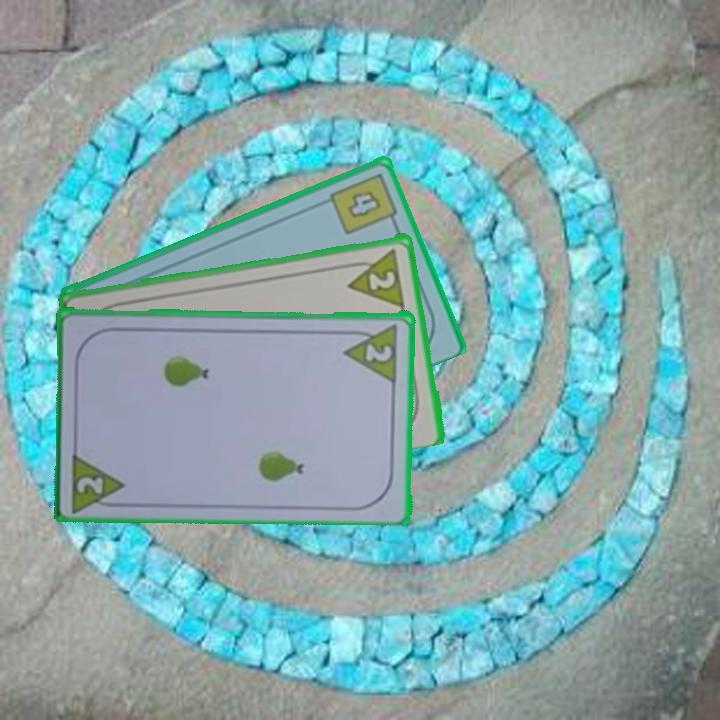2p: (68, 448, 129, 513), (341, 320, 401, 384), (365, 267, 399, 293)
4b: (326, 169, 401, 237)
